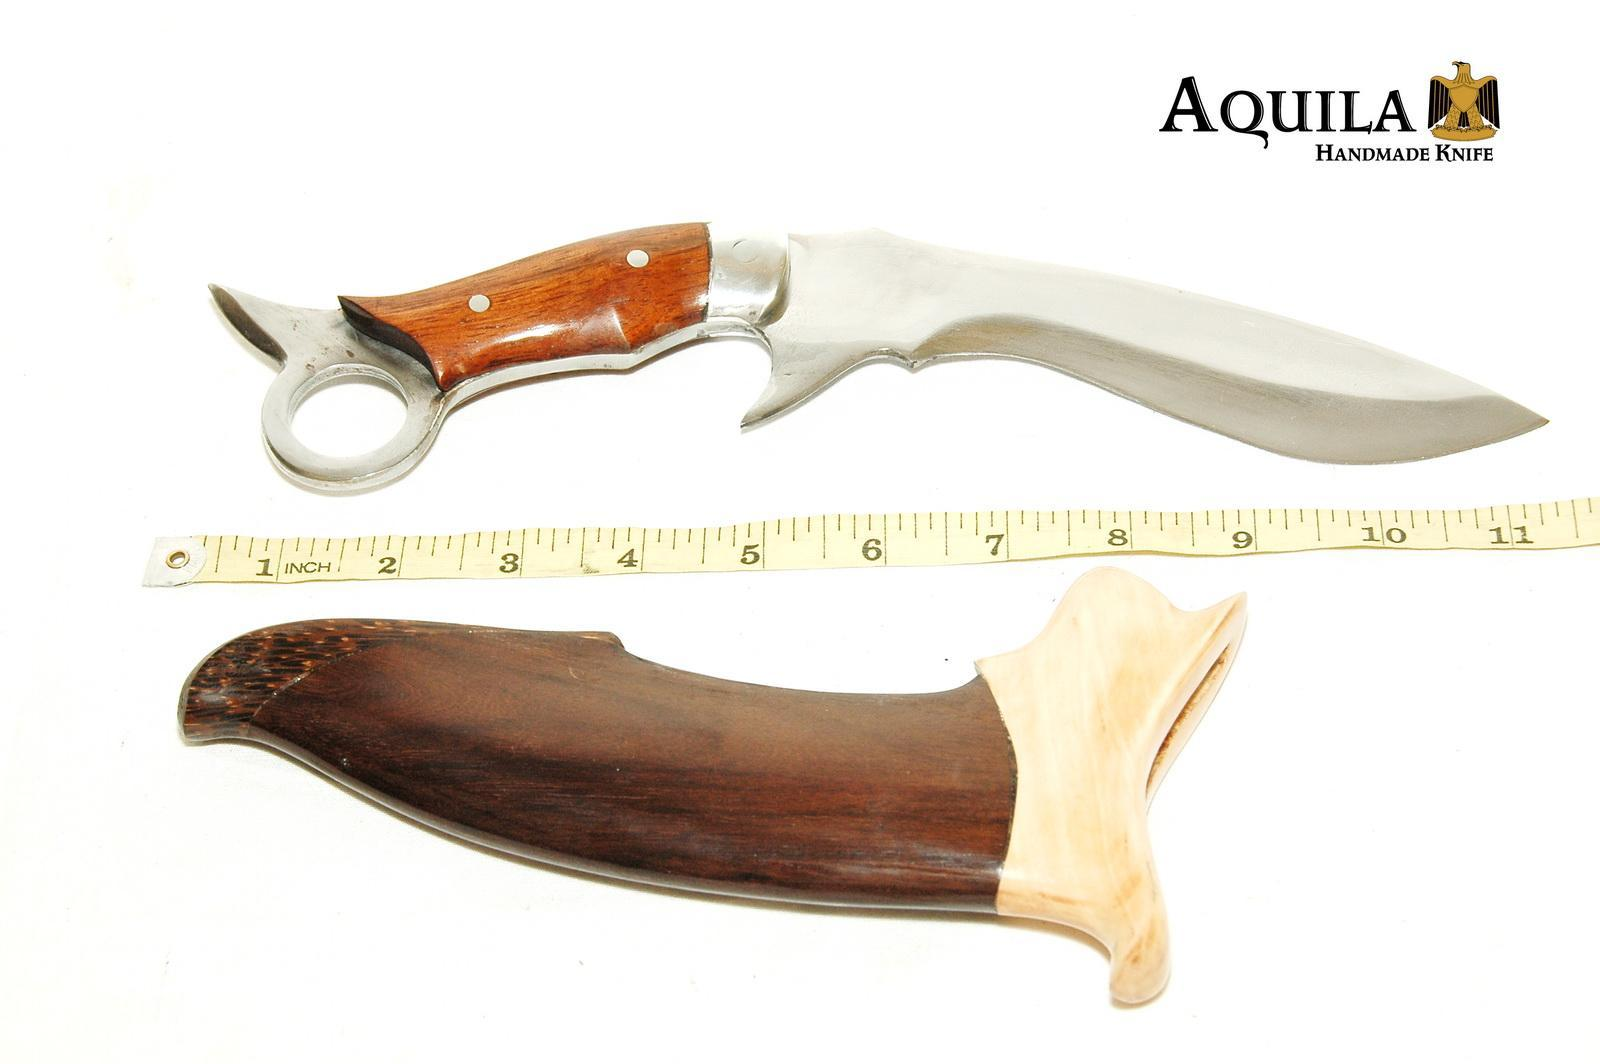faca: (212, 223, 1547, 492)
